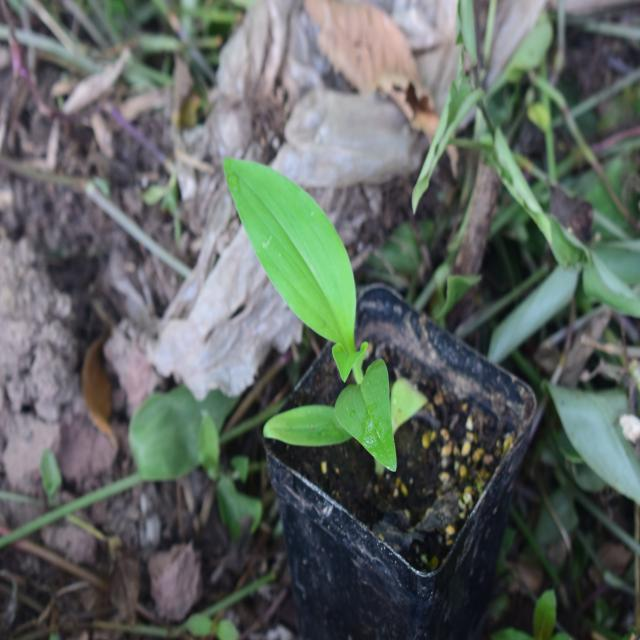Common Dayflower: (224, 143, 410, 485)
